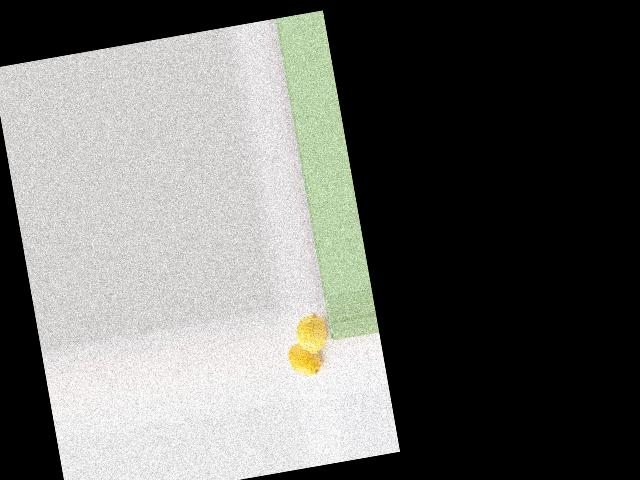lemon: (285, 341, 321, 380)
